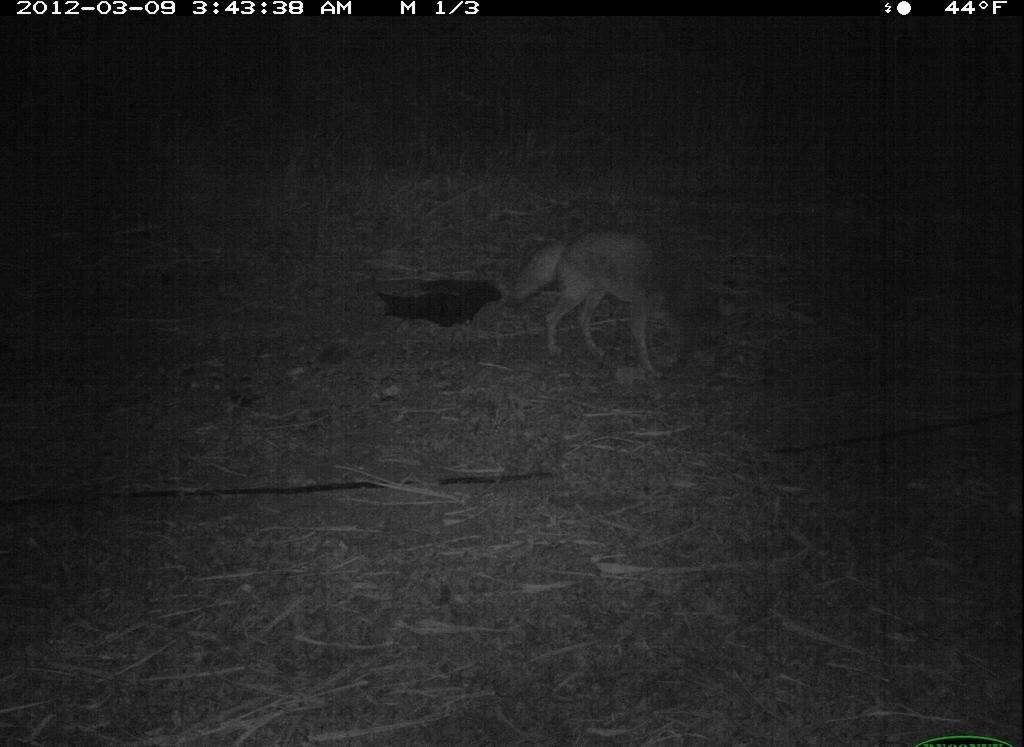coyote: (500, 222, 747, 404)
